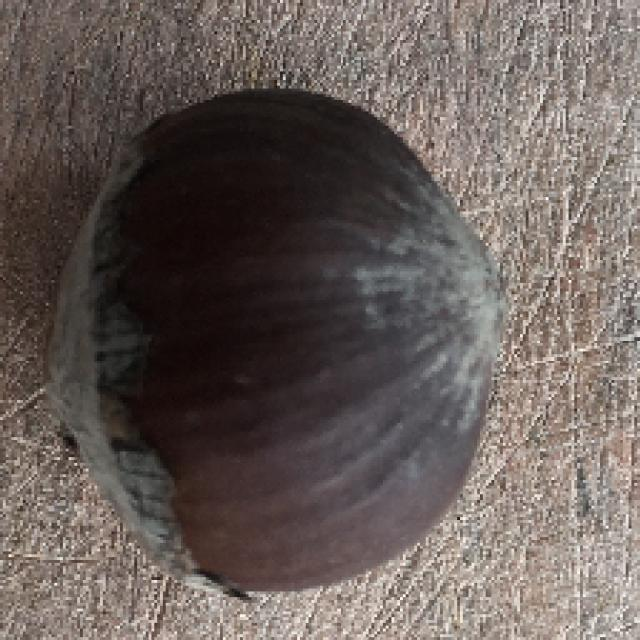damagedHazelnut: (47, 79, 500, 598)
